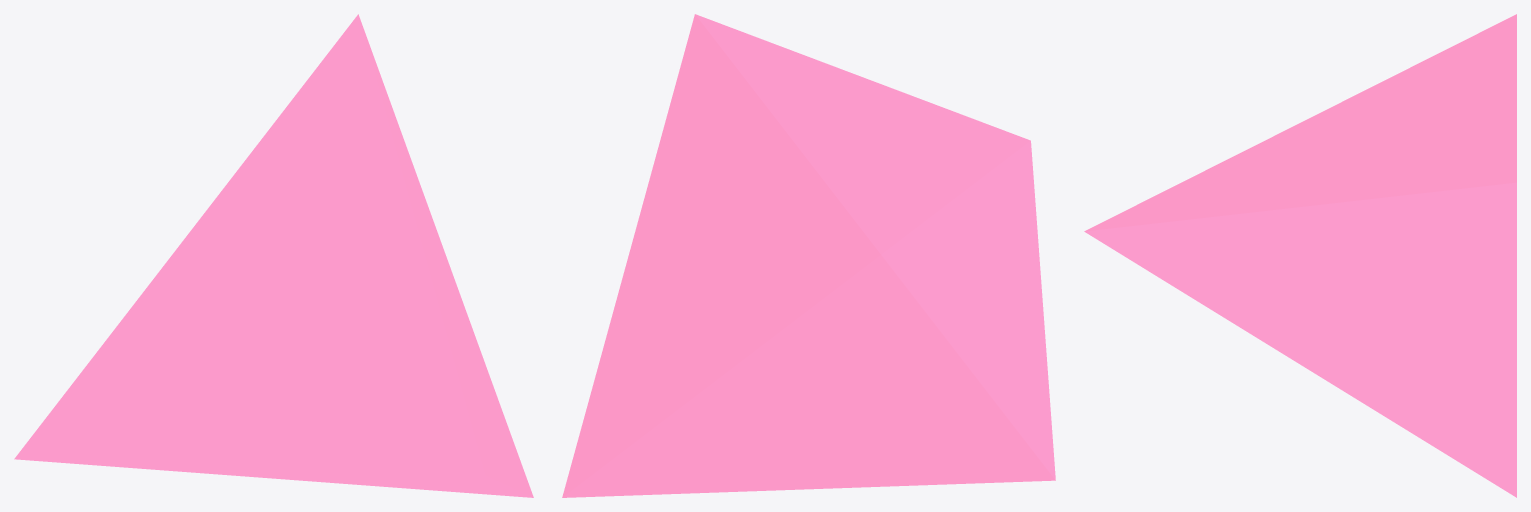
The model's file is watts_bullet.fbx.
3 renders of one model, left to right at view 1: azimuth 30°, elevation 25°; view 2: azimuth 150°, elevation 25°; view 3: azimuth 270°, elevation 25°, orthographic. The views are drawn at different scales.
Parts seen in each view (by area): view 1: bullet; view 2: bullet; view 3: bullet.
Boxes of the visible parts, <box> form: bullet: <box>14,14,533,497</box>; bullet: <box>562,14,1055,497</box>; bullet: <box>1084,14,1516,497</box>.
Bounding box in the file's own units: 20.42 × 20.41 × 18.62.
